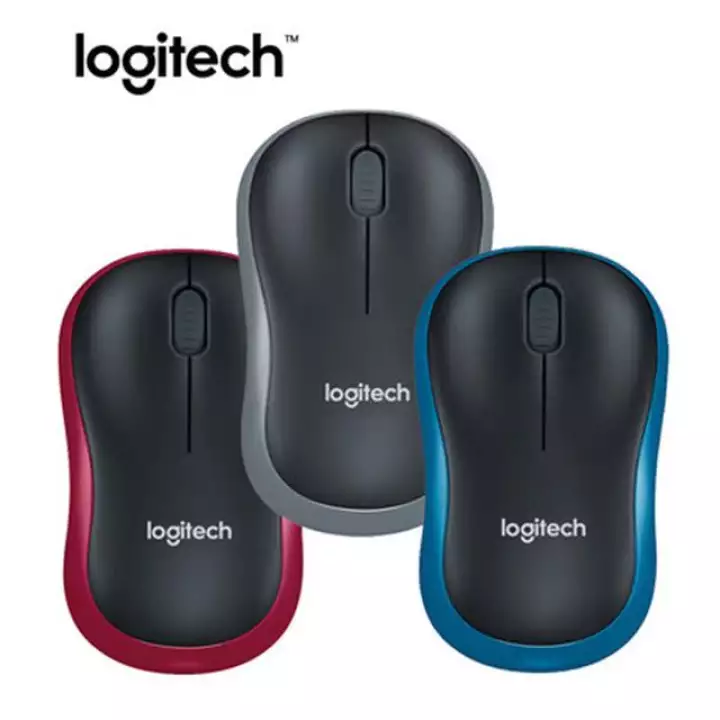logitech-mouse-m185: (409, 244, 681, 672), (237, 101, 496, 538), (56, 255, 308, 677)
